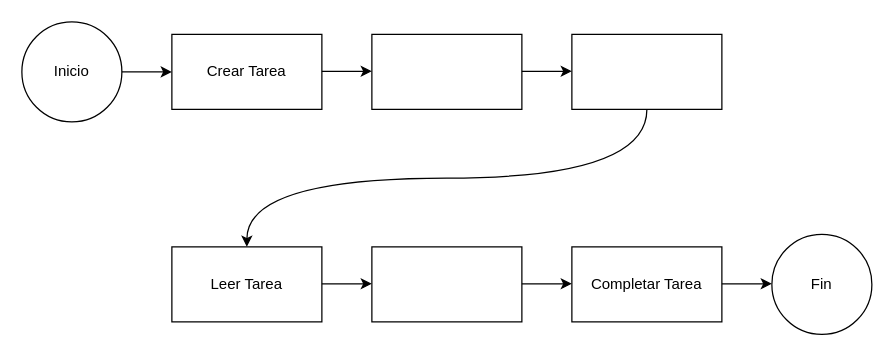
Some shapes in this 894 by 356 pixel diagram are drawn without their labels. The centre of each missing label's shape, as x and y in pixels:
Actualizar Tareas: the point at 446,284
Asignar Tarea: the point at 446,71
Visualizar Tarea: the point at 646,71
